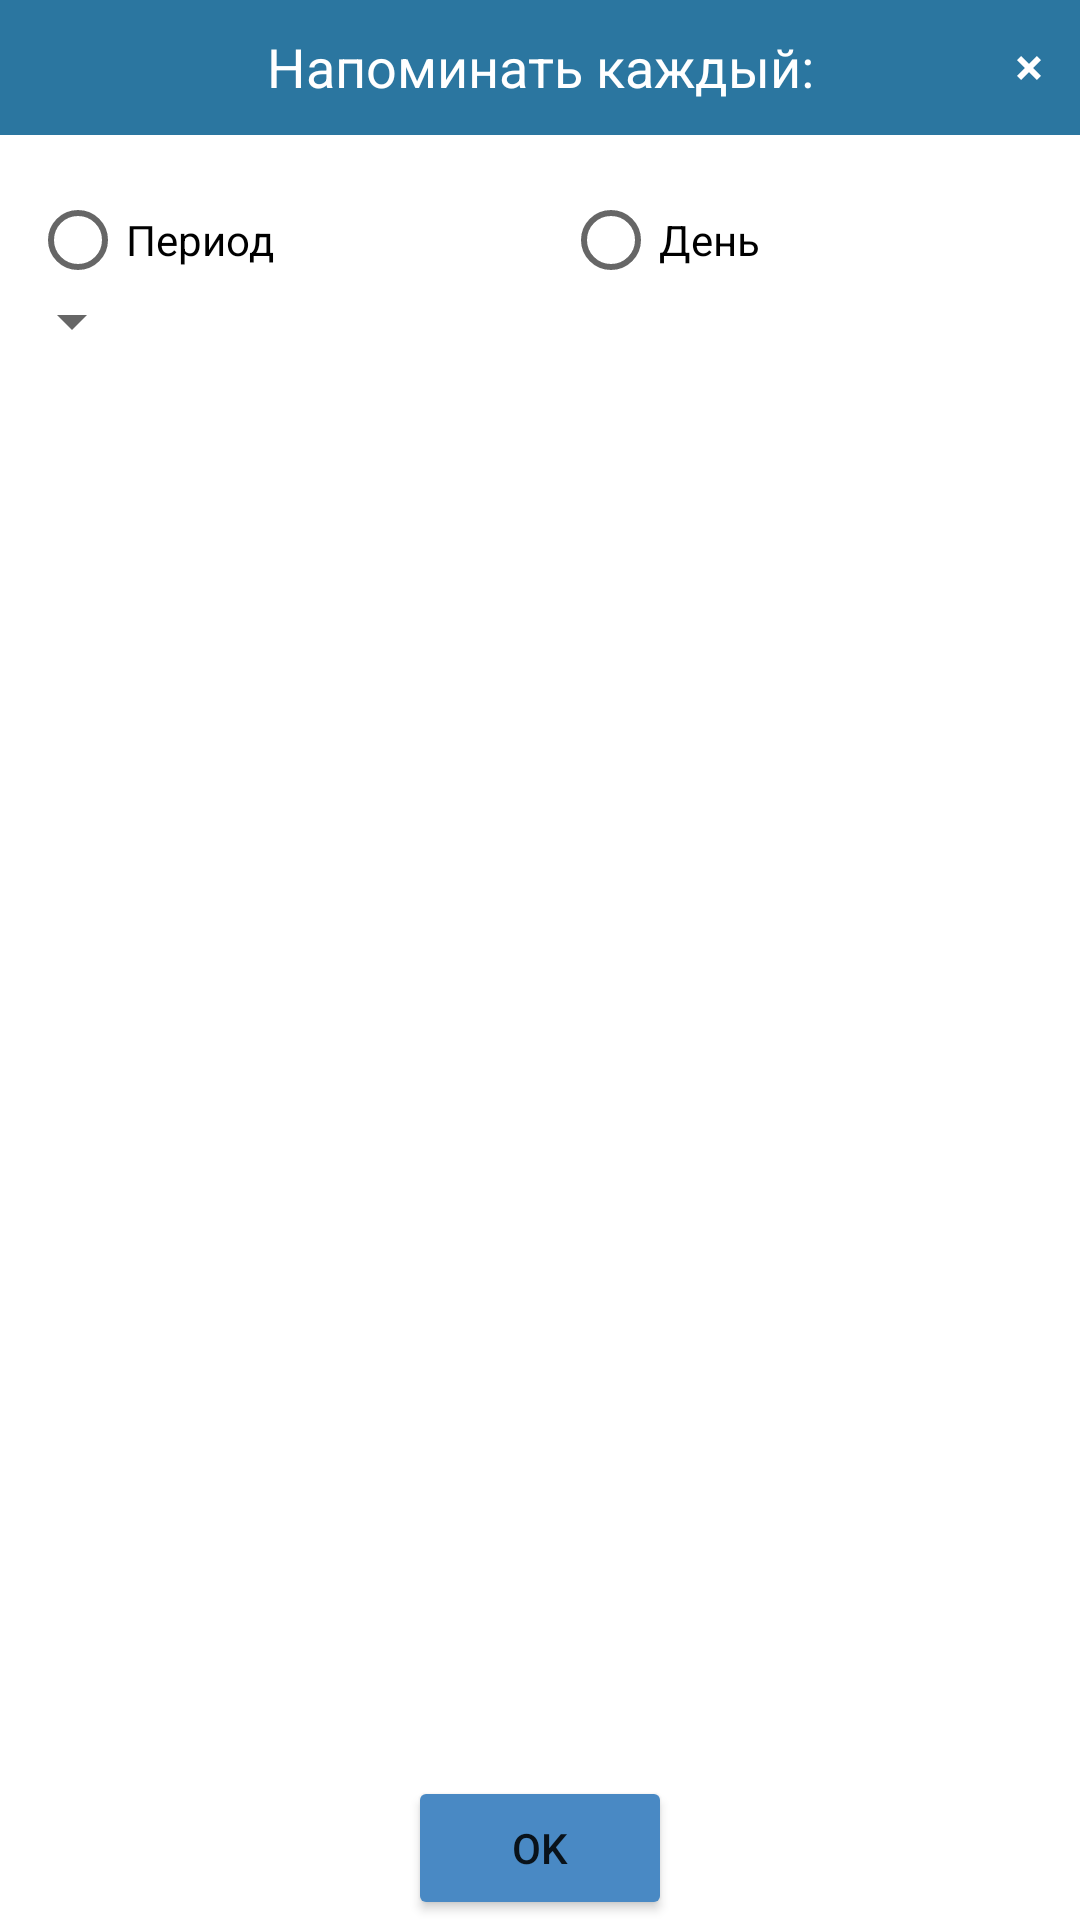

Point at icon controls on the screen. Image size 1080*1920, points as (x=x, y=y).
cancel dialog: (x=1029, y=68)
